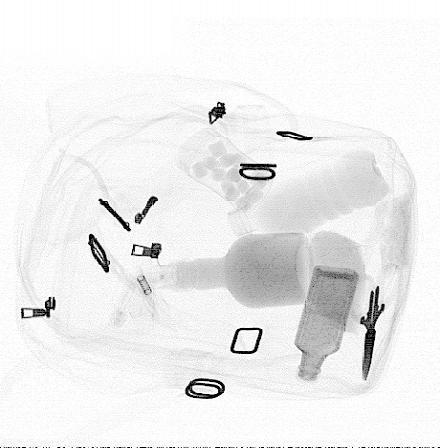Scissors: (345, 262, 405, 384)
